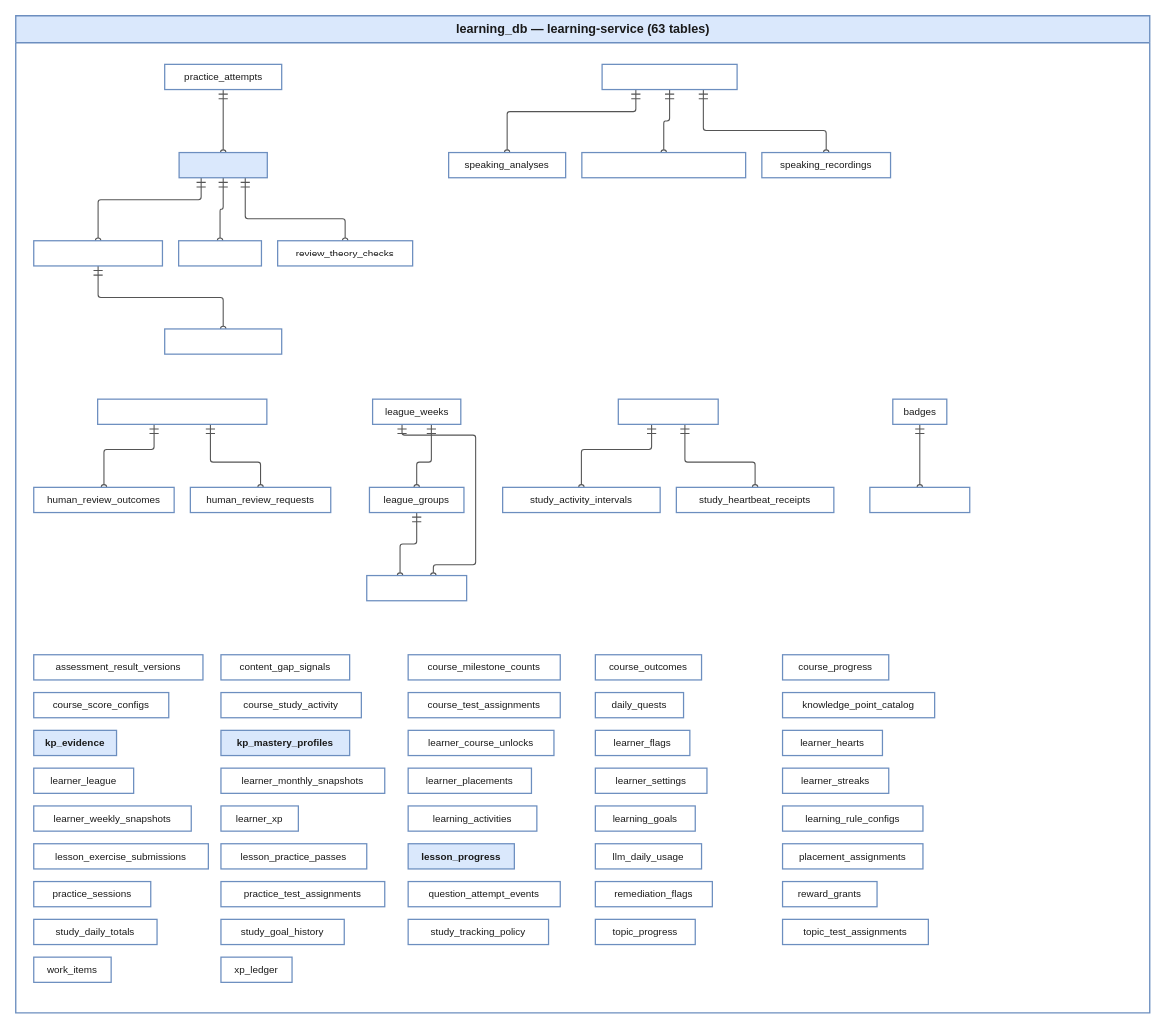
Some shapes in this 1166 by 1030 pixel diagram are drawn without their labels. Each missing label, with the centre of its shape:
diagnostic_probes: pixel 223 341
diagnostic_sessions: pixel 98 253
league_members: pixel 416 587
learner_badges: pixel 919 499
lesson_writing_submissions: pixel 182 411
review_items: pixel 222 164
review_sets: pixel 220 253
speaking_grading_contexts: pixel 663 164
speaking_submissions: pixel 669 76
study_sessions: pixel 667 411
